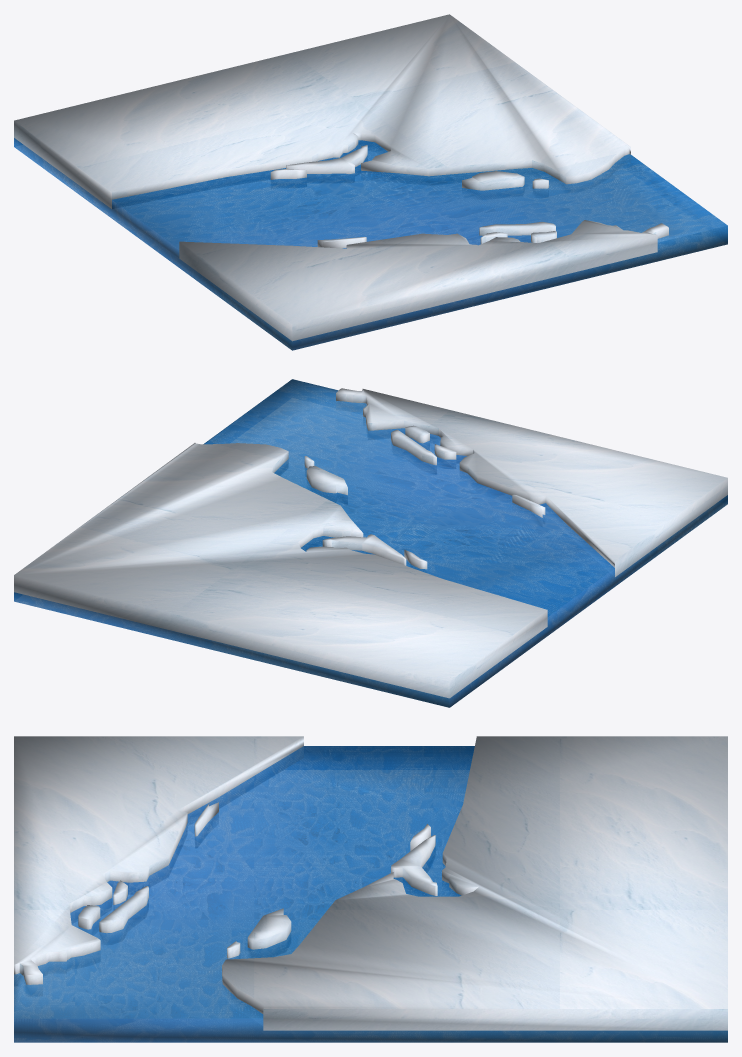
3 views of the same model, one above another, from view 1: azimuth 30°, elevation 25°; view 2: azimuth 150°, elevation 25°; view 3: azimuth 270°, elevation 25° (orthographic). The views are drawn at different scales.
Visible parts, largest first — view 1: SketchUp (×8); view 2: SketchUp (×8); view 3: SketchUp (×9).
Boxes of the visible parts, x1,y1,x2,y2 form: SketchUp (×8): [14, 14, 727, 350]; SketchUp (×8): [14, 379, 727, 707]; SketchUp (×9): [14, 736, 727, 1042].
Bounding box in the file's own units: 1108 × 1226 × 64.17.
4 materials, 4 textured.
